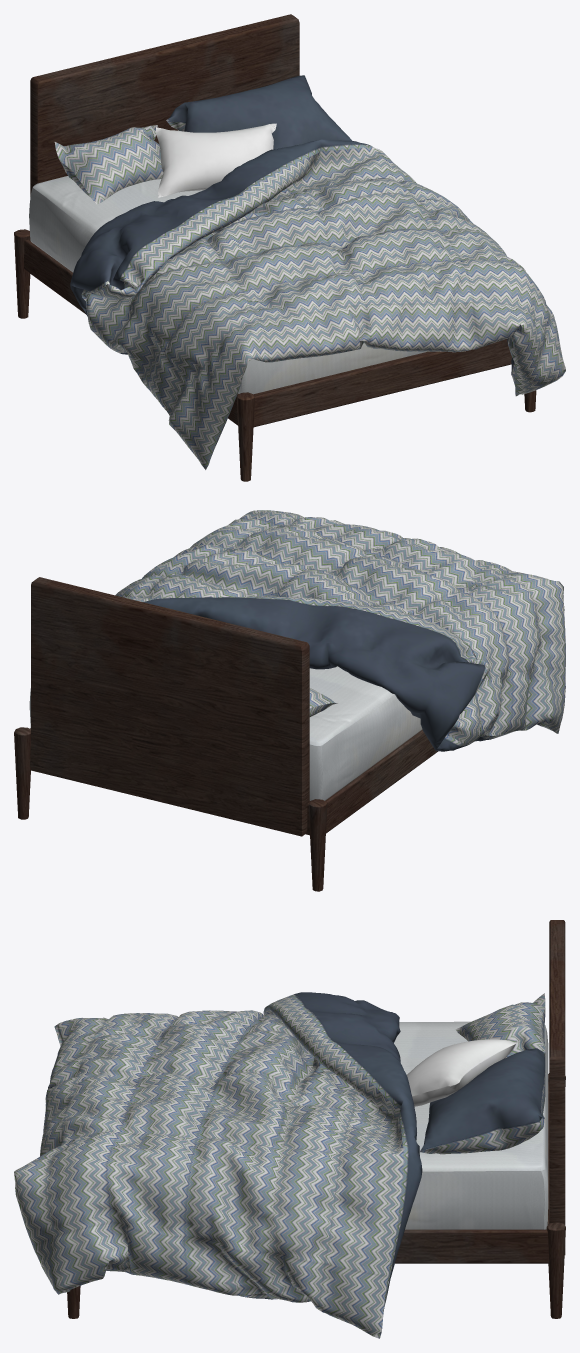
Rendered from Bed.glb.
3 renders of one model, top to bottom at view 1: azimuth 30°, elevation 25°; view 2: azimuth 150°, elevation 25°; view 3: azimuth 270°, elevation 25°, orthographic. The views are drawn at different scales.
Parts seen in each view (by area): view 1: sheets, Bed; view 2: Bed, sheets; view 3: sheets, Bed.
Part boxes in pixels (left/top/right/bottom): sheets: left=54, top=75, right=565, bottom=469; Bed: left=14, top=14, right=536, bottom=481; Bed: left=14, top=577, right=437, bottom=891; sheets: left=115, top=510, right=565, bottom=751; sheets: left=14, top=992, right=545, bottom=1338; Bed: left=67, top=920, right=565, bottom=1318.
Size of the model in its own units: 0.0178 by 0.0101 by 0.02.
Materials: 2 (2 with a texture image).
